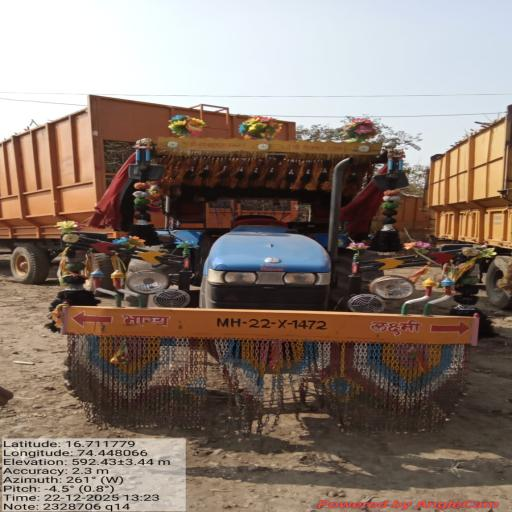number_plate: (209, 314, 342, 338)
